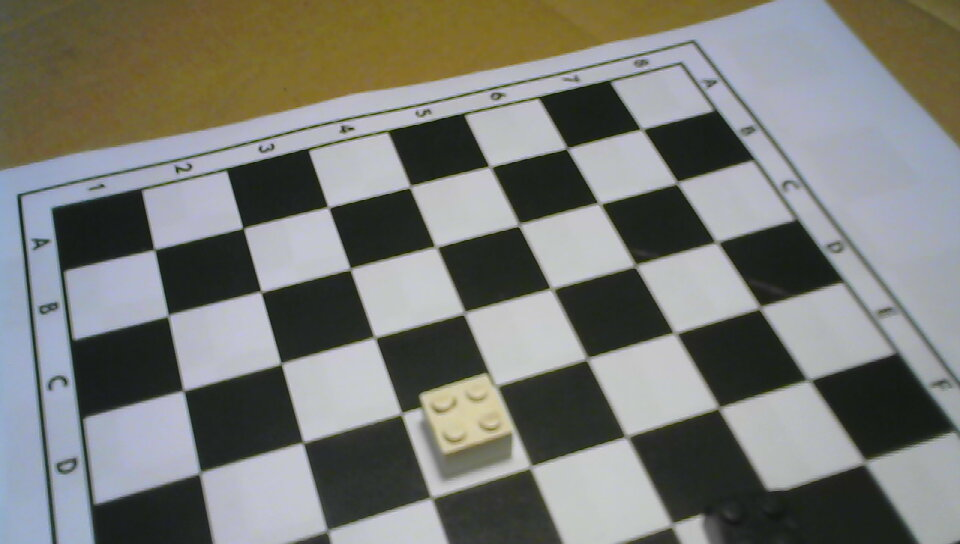bp: (705, 489, 801, 544)
wp: (419, 374, 513, 473)
